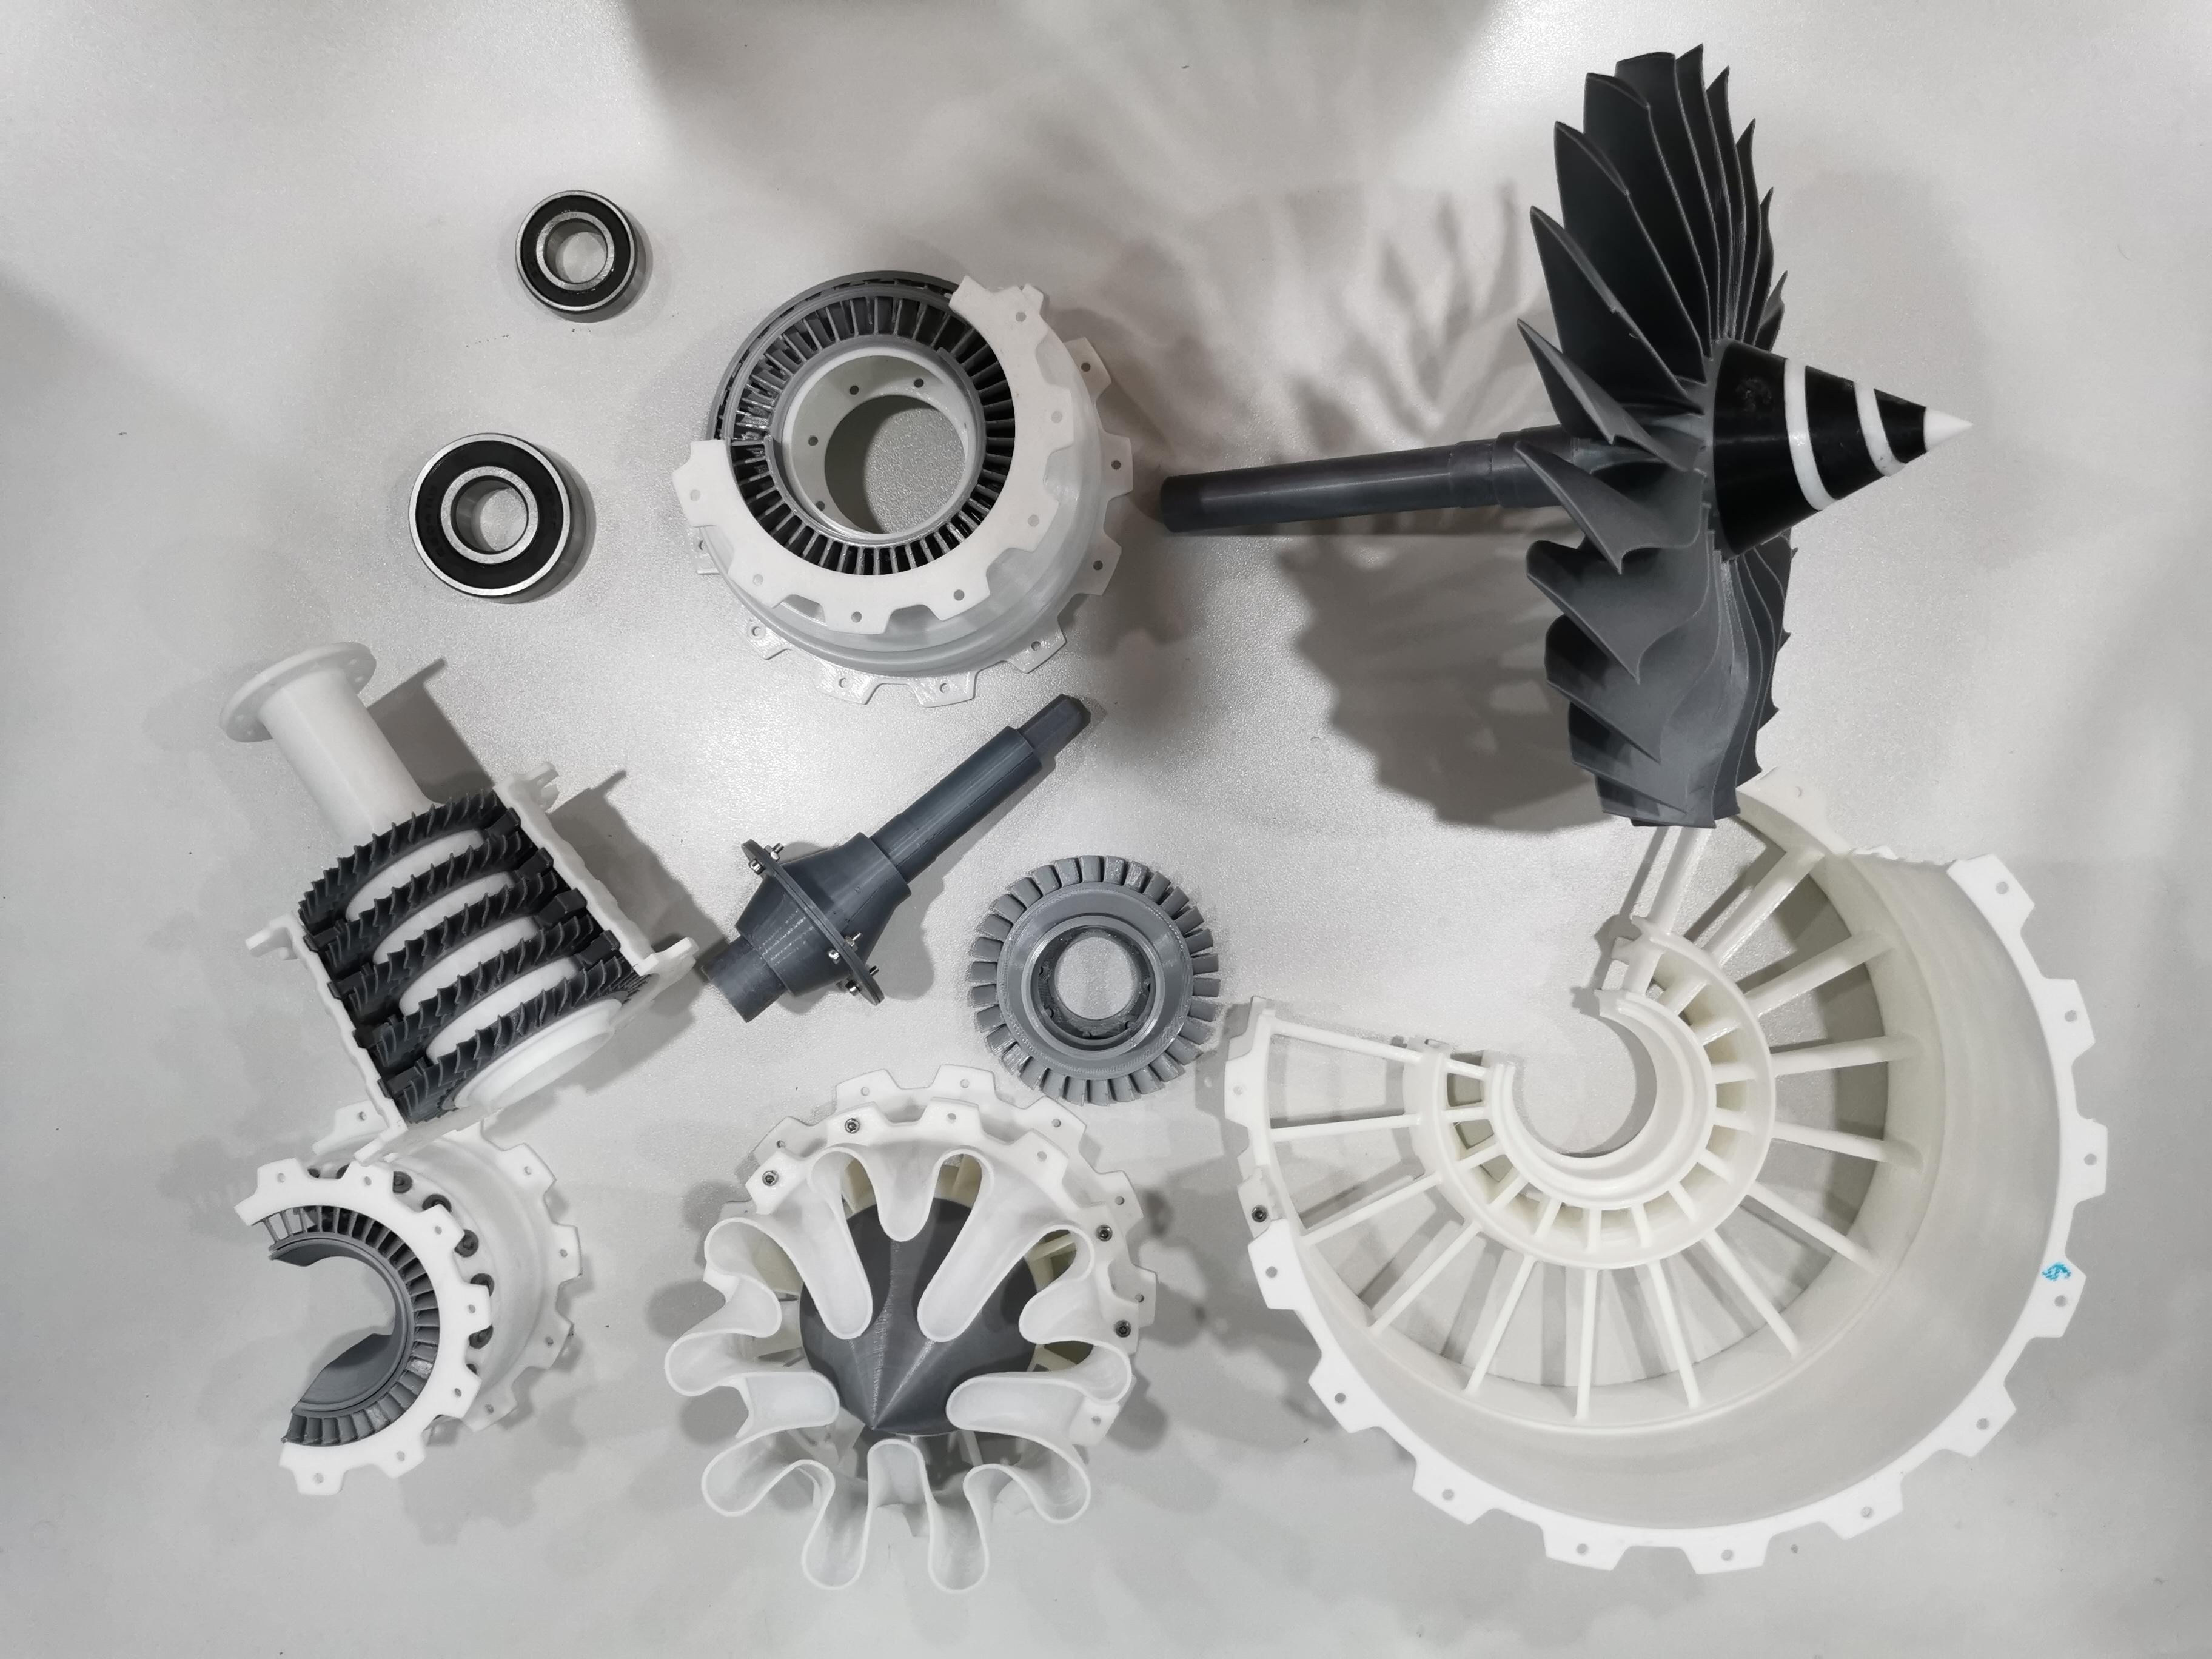Bearing-6003: (495, 164, 664, 336)
Bearing-6204: (387, 418, 613, 622)
Combustion Section: (228, 1089, 601, 1513)
Fan Casing and Support: (1219, 765, 2134, 1595)
Fan and Low Pressure Shaft: (1155, 37, 1980, 829)
HPT Section: (960, 849, 1233, 1112)
High Pressure Spool: (212, 636, 702, 1164)
LPT Section: (667, 265, 1146, 713)
Low Pressure Spool: (691, 681, 1106, 1028)
Nozzle Section: (657, 1060, 1172, 1603)
